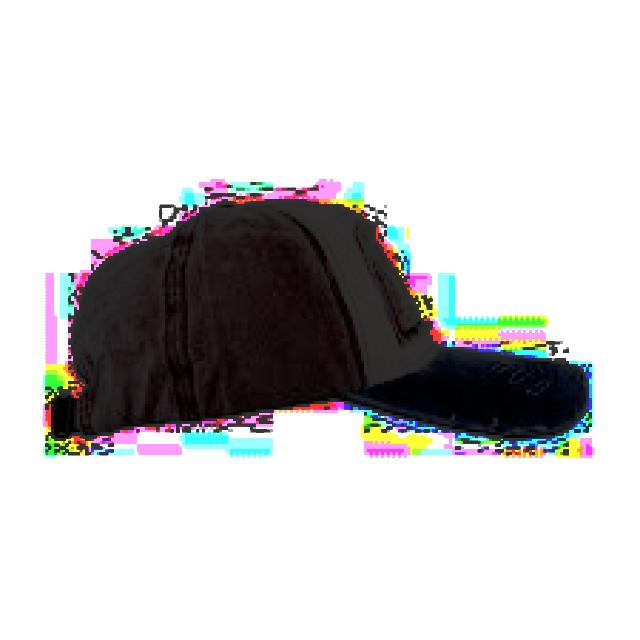TOPI: (46, 193, 592, 441)
